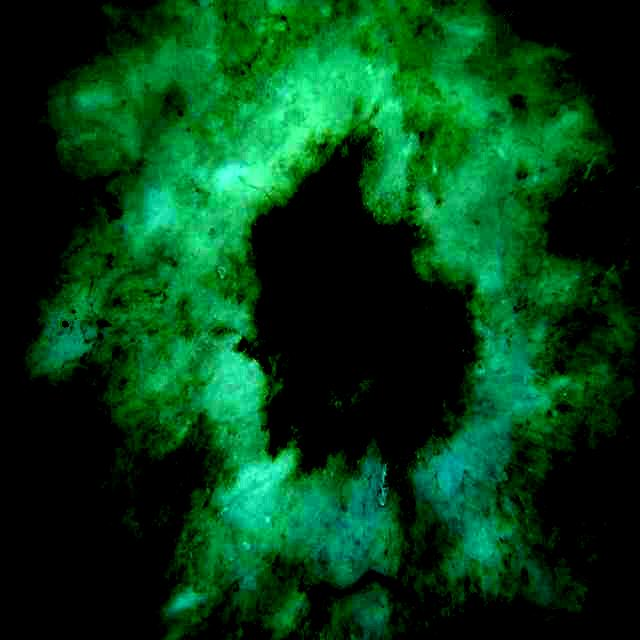MEL: (241, 148, 462, 466)
